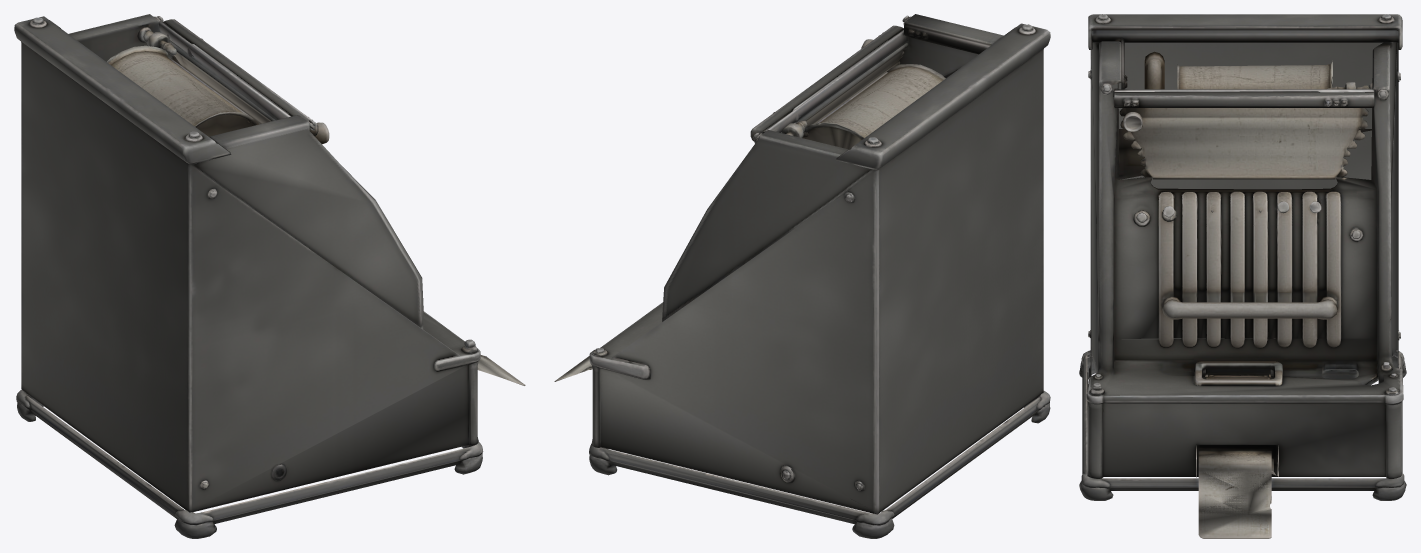
3 views of the same model, side by side, from view 1: azimuth 30°, elevation 25°; view 2: azimuth 150°, elevation 25°; view 3: azimuth 270°, elevation 25° (orthographic). The views are drawn at different scales.
Parts seen in each view (by area): view 1: tripo_node_aa193b06-f75f-4c05-acd0-071a878b937e; view 2: tripo_node_aa193b06-f75f-4c05-acd0-071a878b937e; view 3: tripo_node_aa193b06-f75f-4c05-acd0-071a878b937e.
Part boxes in pixels (x1,y1,x2,y2): tripo_node_aa193b06-f75f-4c05-acd0-071a878b937e: (14, 14, 525, 538); tripo_node_aa193b06-f75f-4c05-acd0-071a878b937e: (554, 14, 1050, 538); tripo_node_aa193b06-f75f-4c05-acd0-071a878b937e: (1079, 14, 1406, 538).
Bounding box in the file's own units: 0.998 × 0.9395 × 0.7715.
Materials: 1 (1 with a texture image).
